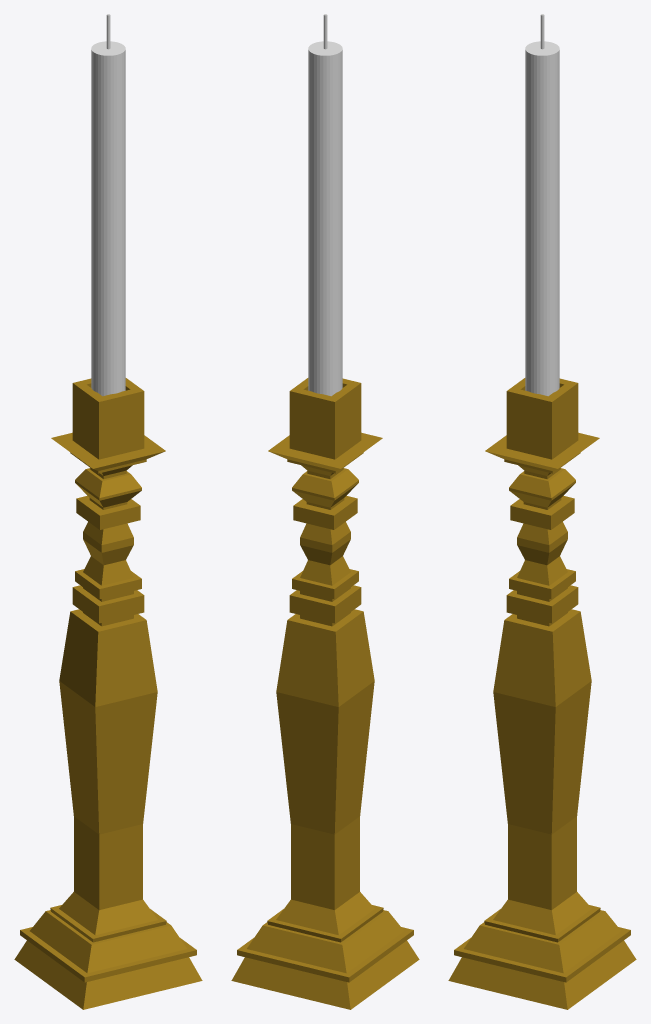
File: bougieBougeoir.fbx
3 renders of one model, left to right at view 1: azimuth 30°, elevation 25°; view 2: azimuth 150°, elevation 25°; view 3: azimuth 330°, elevation 25°, orthographic.
Visible parts, largest first — view 1: Cube, Cylindre; view 2: Cube, Cylindre; view 3: Cube, Cylindre.
Part boxes in pixels (left/top/right/bottom): Cube: left=14, top=378, right=202, bottom=1009; Cylindre: left=91, top=41, right=125, bottom=396; Cube: left=231, top=378, right=419, bottom=1009; Cylindre: left=308, top=41, right=342, bottom=396; Cube: left=448, top=378, right=636, bottom=1009; Cylindre: left=525, top=41, right=559, bottom=396.
Bounding box in the file's own units: 40 × 306 × 40.
